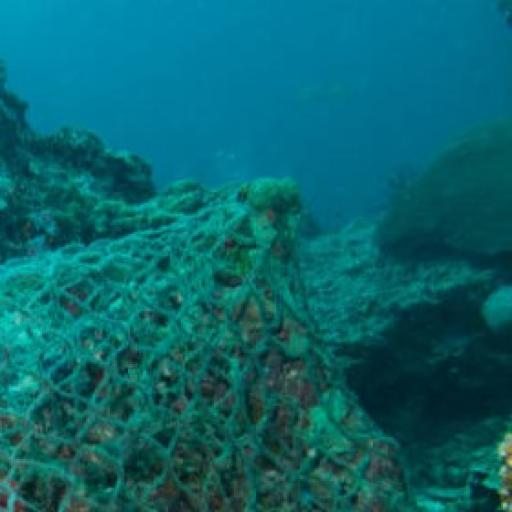net: (2, 183, 420, 512)
